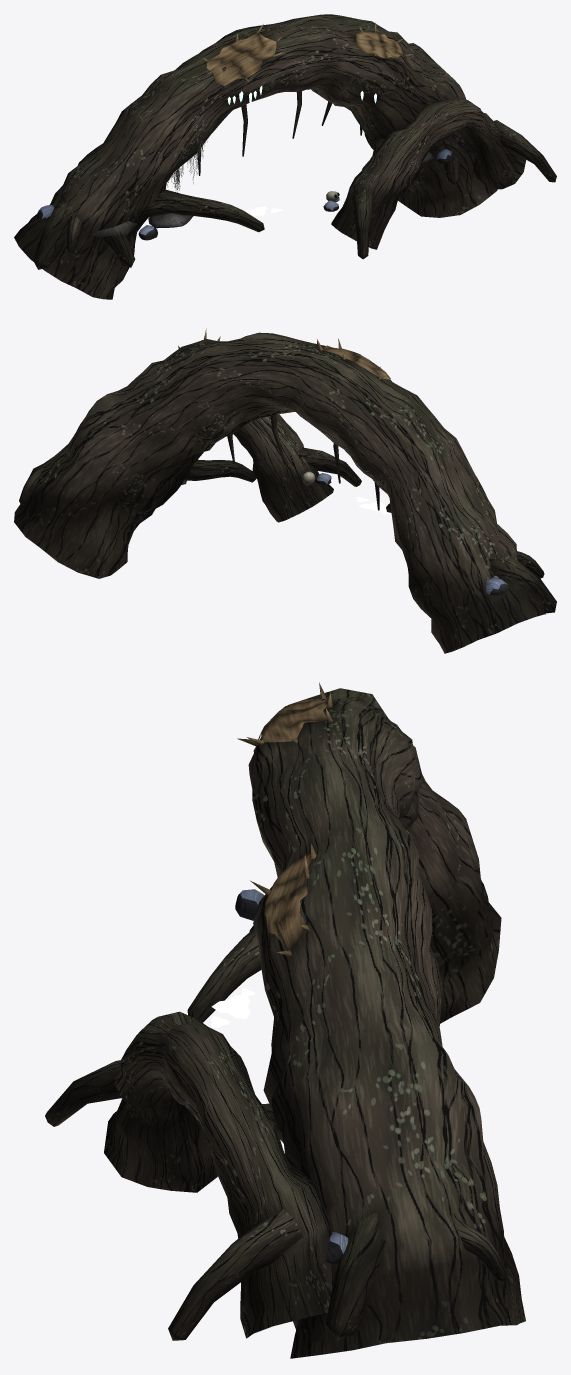
The model's file is helheim_root.glb.
3 views of the same model, one above another, from view 1: azimuth 30°, elevation 25°; view 2: azimuth 150°, elevation 25°; view 3: azimuth 270°, elevation 25° (orthographic). The views are drawn at different scales.
Visible parts, largest first — view 1: helheim_root; view 2: helheim_root; view 3: helheim_root.
Part boxes in pixels (x1,y1,x2,y2): helheim_root: (14, 14, 556, 299); helheim_root: (14, 328, 556, 653); helheim_root: (45, 682, 525, 1358).
Bounding box in the file's own units: 13.74 × 6.57 × 5.97.
Materials: 9 (7 with a texture image).
